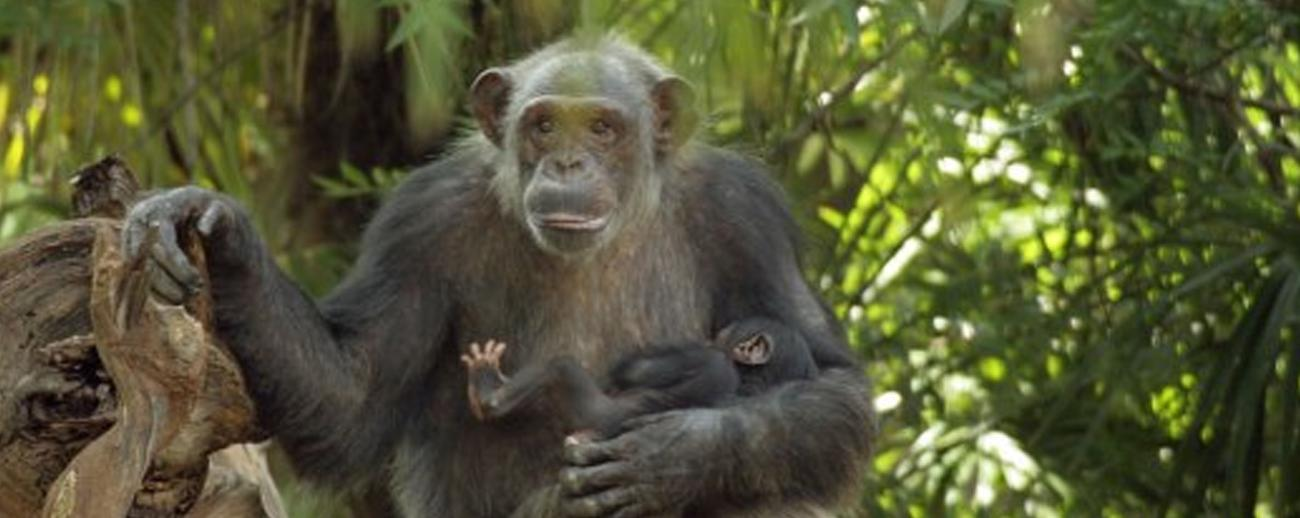Chimpanzee: (341, 32, 866, 492)
